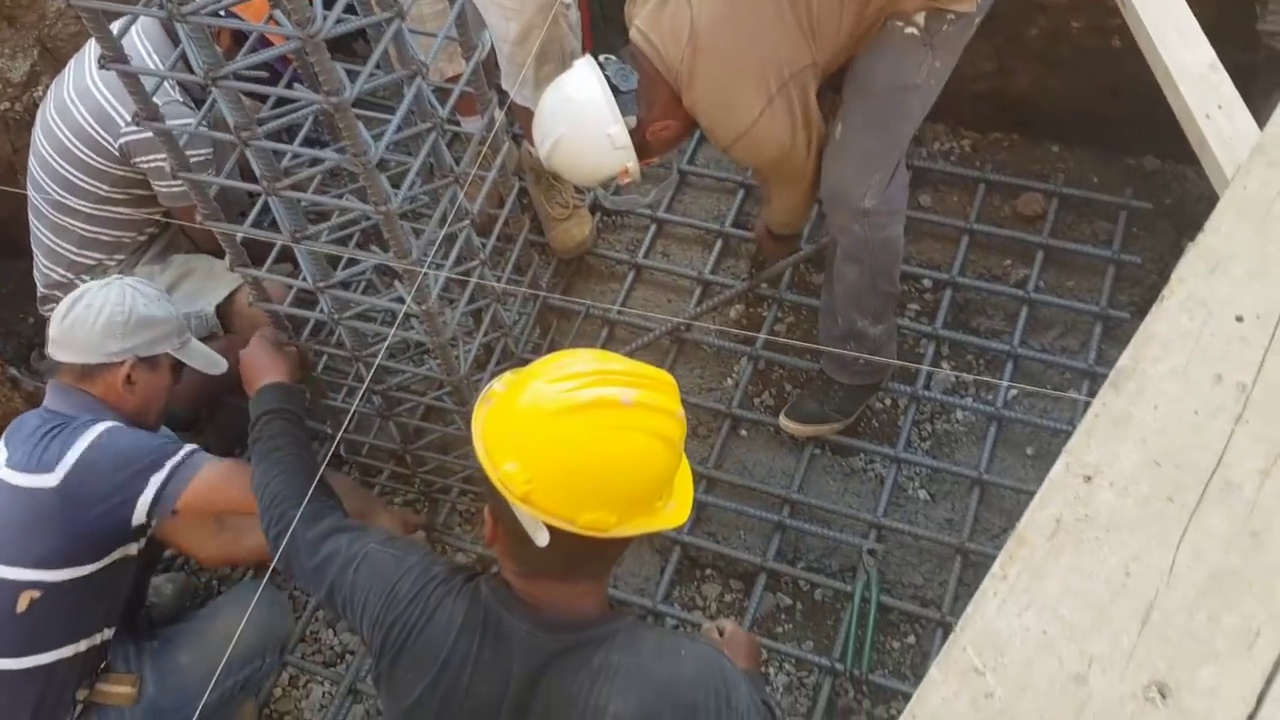helmet: (468, 351, 698, 544), (530, 53, 646, 195)
helmet-off: (46, 274, 228, 435)
helmet-on: (469, 350, 699, 623), (531, 28, 699, 192)
person: (235, 324, 781, 718), (526, 4, 993, 438), (1, 274, 416, 719), (24, 3, 292, 324)
